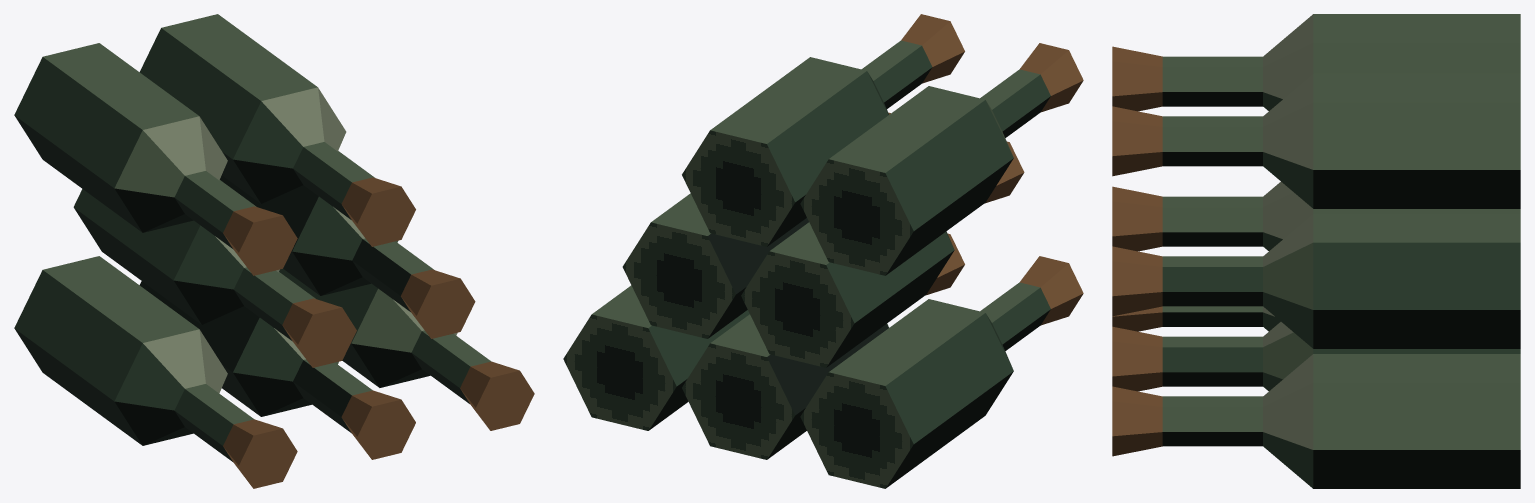
File: fuellung_flaschen_stapel_glatt.glb
3 renders of one model, left to right at view 1: azimuth 30°, elevation 25°; view 2: azimuth 150°, elevation 25°; view 3: azimuth 270°, elevation 25°, orthographic. The views are drawn at different scales.
Parts seen in each view (by area): view 1: flaschen_stapel_gruen_glatt; view 2: flaschen_stapel_gruen_glatt; view 3: flaschen_stapel_gruen_glatt.
Part boxes in pixels (bbox=[...]): flaschen_stapel_gruen_glatt: bbox=[14, 14, 534, 488]; flaschen_stapel_gruen_glatt: bbox=[563, 14, 1083, 488]; flaschen_stapel_gruen_glatt: bbox=[1112, 14, 1520, 488].
Size of the model in its own units: 0.3668 by 0.3159 by 0.3575.
Materials: 1 (1 with a texture image).
